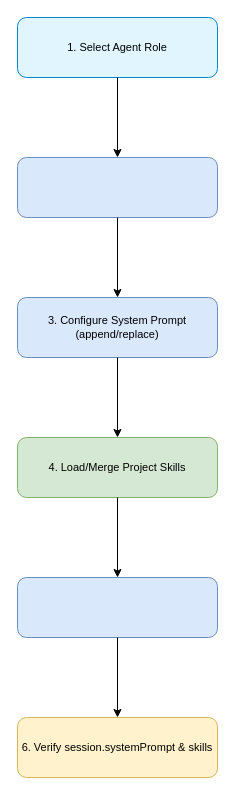
Image size: 235x795. Some labels were removed from this diagram. The shapes that lost their labels are listed below. From the top down, each one's centre as x and y in pixels, then its label:
At (x=117, y=187): "2. Init DefaultResourceLoader with overrides".
At (x=117, y=607): "5. Create Pi Session".
